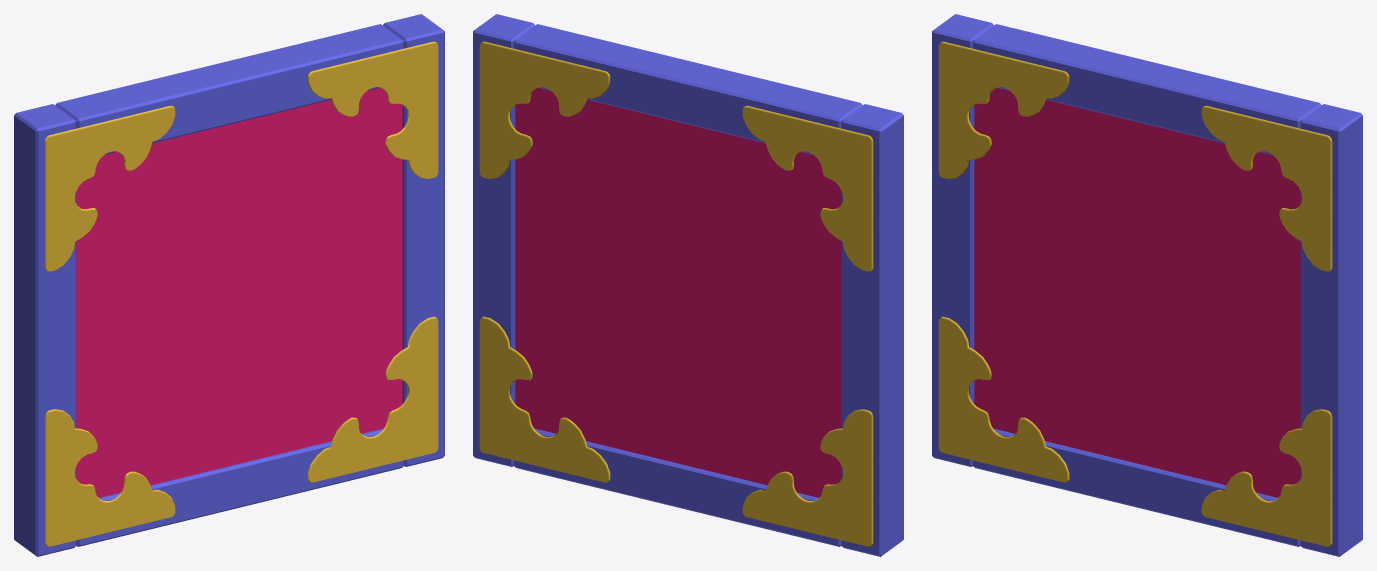
The model's file is SM_Framed_Board.fbx.
The picture shows the model from 3 angles, left to right: view 1: azimuth 30°, elevation 25°; view 2: azimuth 150°, elevation 25°; view 3: azimuth 330°, elevation 25°; orthographic projection.
Visible parts, largest first — view 1: Cube.018, Cube.003, 平面.003; view 2: Cube.018, Cube.003, 平面.003; view 3: Cube.018, Cube.003, 平面.003.
Boxes of the visible parts, left/top/right/bottom form: Cube.018: left=76, top=88, right=404, bottom=546; Cube.003: left=14, top=14, right=444, bottom=556; 平面.003: left=44, top=41, right=438, bottom=546; Cube.018: left=513, top=88, right=841, bottom=546; Cube.003: left=473, top=14, right=903, bottom=556; 平面.003: left=479, top=41, right=873, bottom=546; Cube.018: left=972, top=88, right=1300, bottom=546; Cube.003: left=932, top=14, right=1362, bottom=556; 平面.003: left=938, top=41, right=1332, bottom=546.
Bounding box in the file's own units: 100 × 100 × 11.11.
